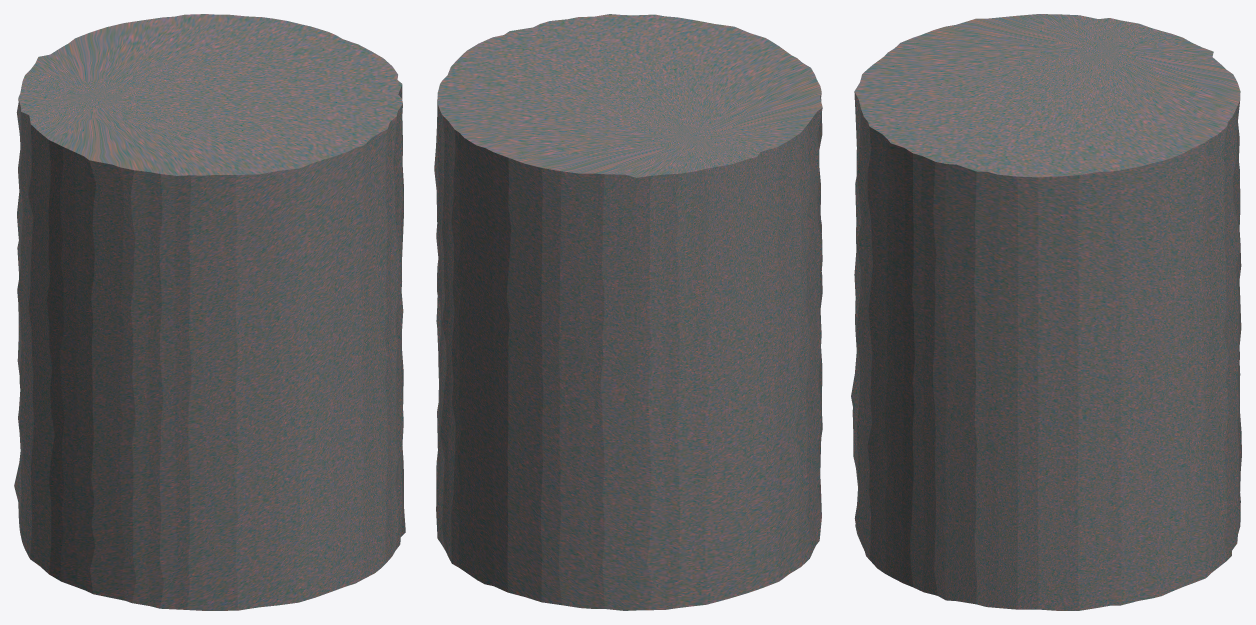
File: barrel_53.dae
3 views of the same model, side by side, from view 1: azimuth 30°, elevation 25°; view 2: azimuth 150°, elevation 25°; view 3: azimuth 270°, elevation 25° (orthographic).
Visible parts, largest first — view 1: Cylinder; view 2: Cylinder; view 3: Cylinder.
Part boxes in pixels (left/top/right/bottom): Cylinder: left=14, top=14, right=405, bottom=610; Cylinder: left=434, top=14, right=822, bottom=610; Cylinder: left=851, top=14, right=1241, bottom=610.
Bounding box in the file's own units: 0.819 × 0.8152 × 1.
Materials: 1 (1 with a texture image).
